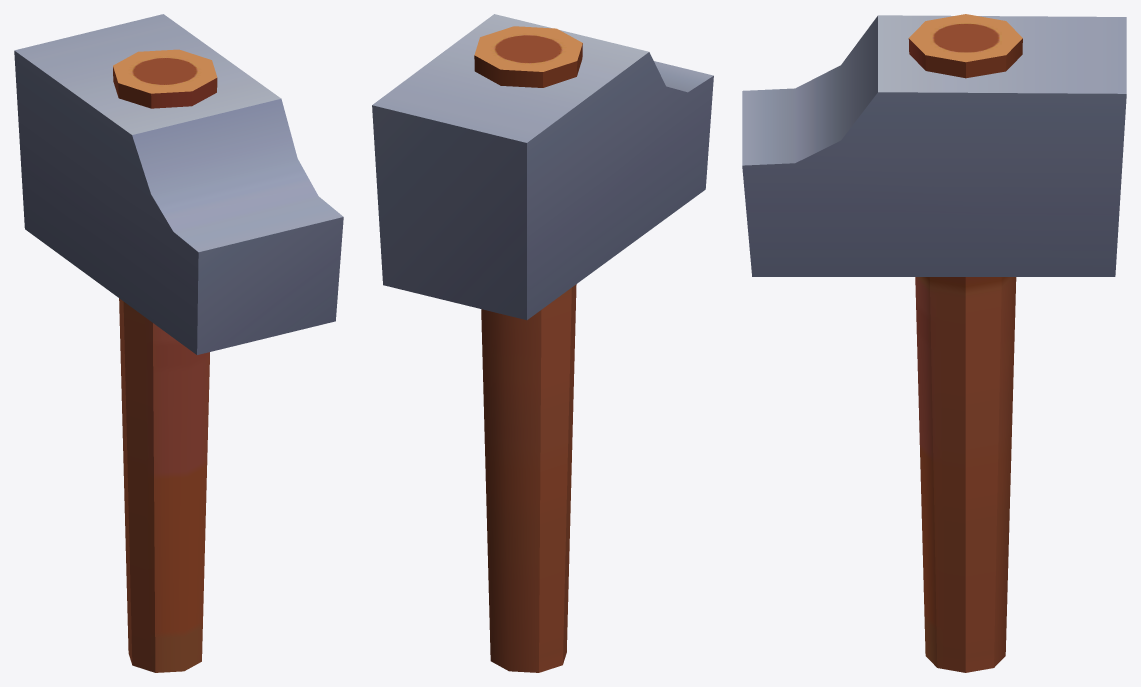
The model's file is Hammer.fbx.
The picture shows the model from 3 angles, left to right: view 1: azimuth 30°, elevation 25°; view 2: azimuth 150°, elevation 25°; view 3: azimuth 270°, elevation 25°; orthographic projection. The views are drawn at different scales.
Visible parts, largest first — view 1: Hammer; view 2: Hammer; view 3: Hammer.
Part boxes in pixels (x1=…): Hammer: x1=14, y1=14, x2=343, y2=672; Hammer: x1=372, y1=14, x2=713, y2=672; Hammer: x1=742, y1=14, x2=1126, y2=672.
Size of the model in its own units: 0.1565 by 0.5863 by 0.3307.
Materials: 1 (1 with a texture image).
